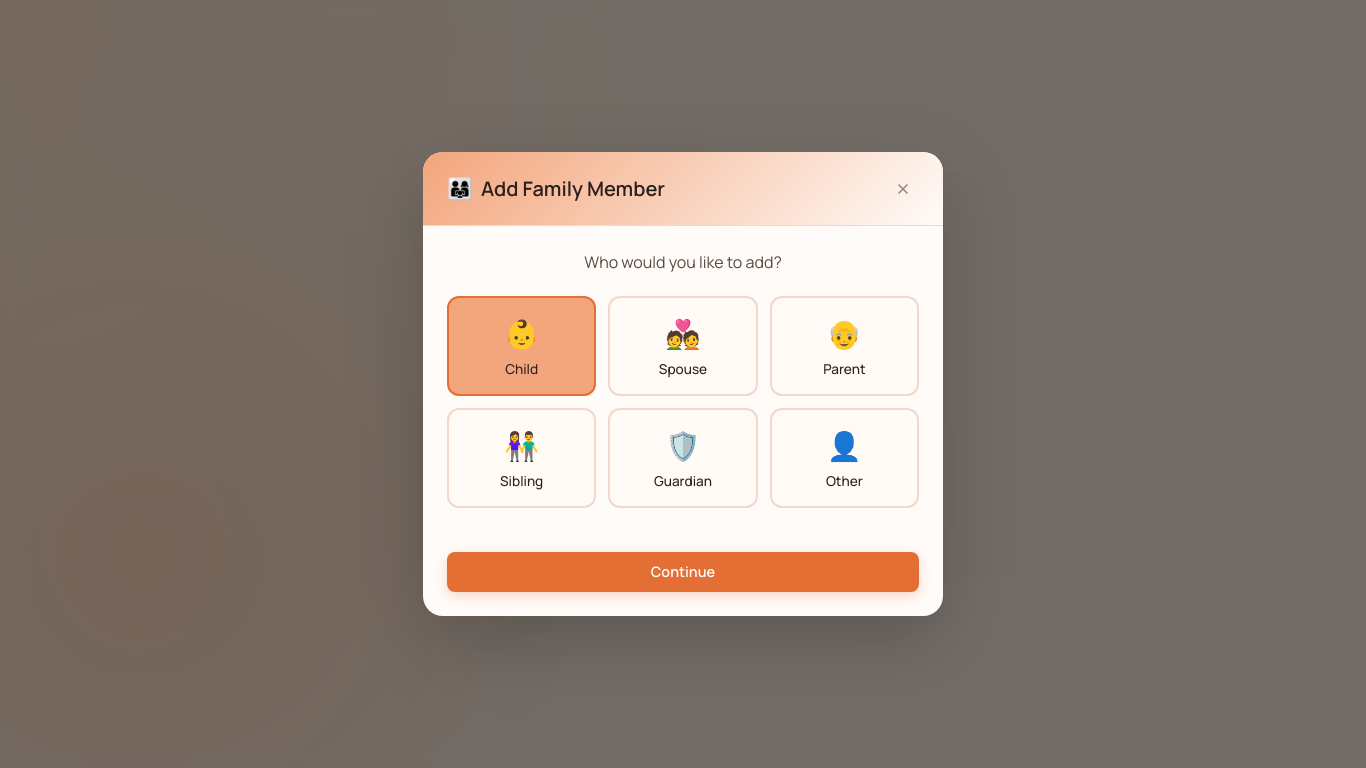
Test case: AddDependentModal › shows required-field and guardian confirmation validation
Step 1. Click the button "Continue" → {"x": 683, "y": 572}, box [447,552,919,592]
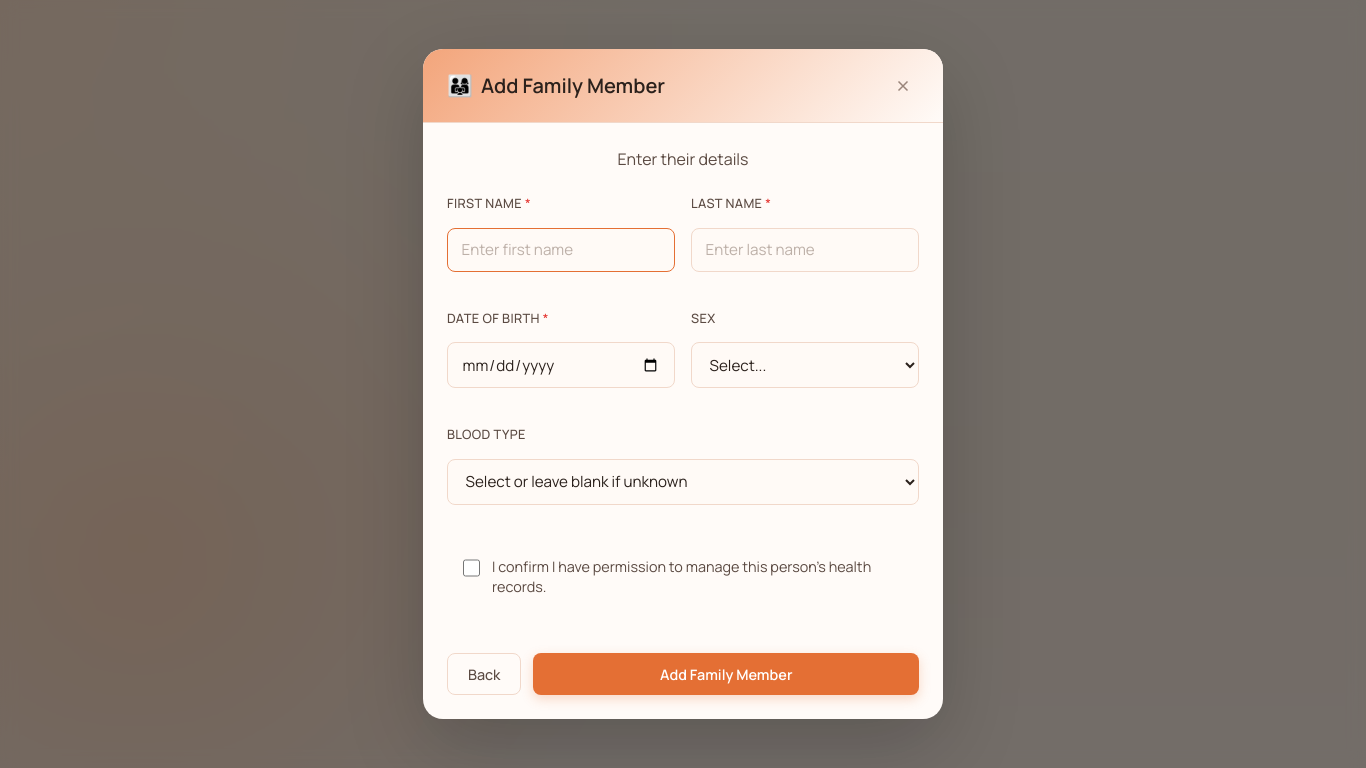
Step 2. Click the button "Add Family Member" → {"x": 726, "y": 674}, box [533,653,919,695]
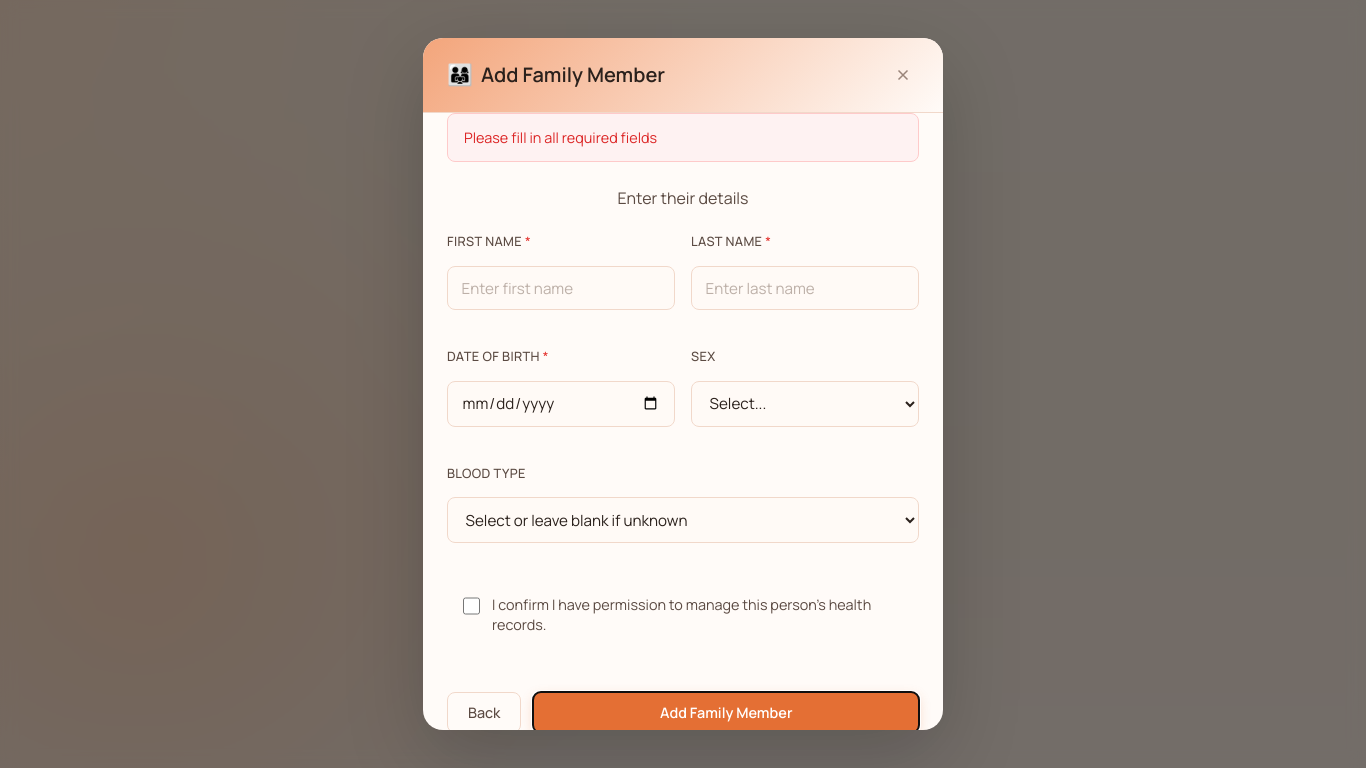
Check: the text "Please fill in all required fields" is shown, box [447,113,919,162]
Step 3. Type "Jamie" into the field with placeholder "Enter first name" → {"x": 561, "y": 288}, box [447,266,675,310]
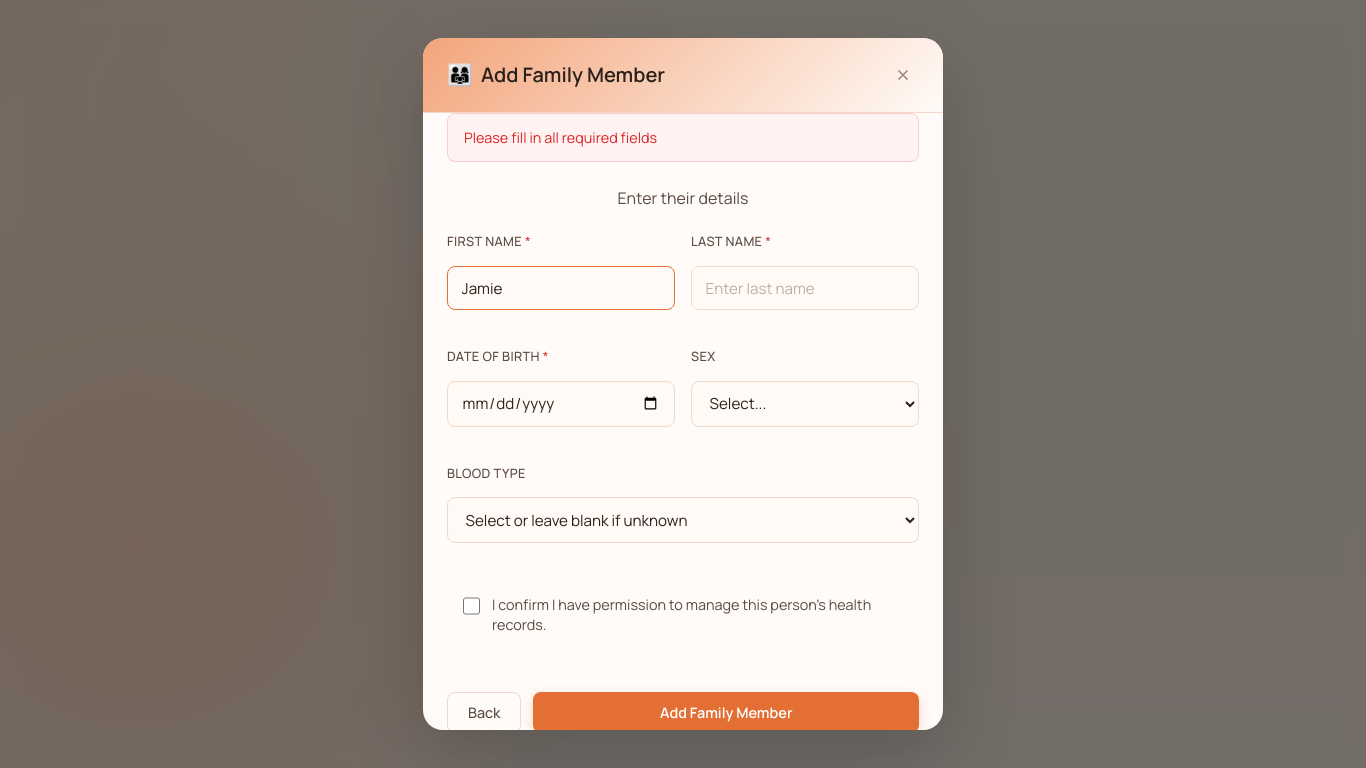
Step 4. Type "Doe" into the field with placeholder "Enter last name" → {"x": 805, "y": 288}, box [691,266,919,310]
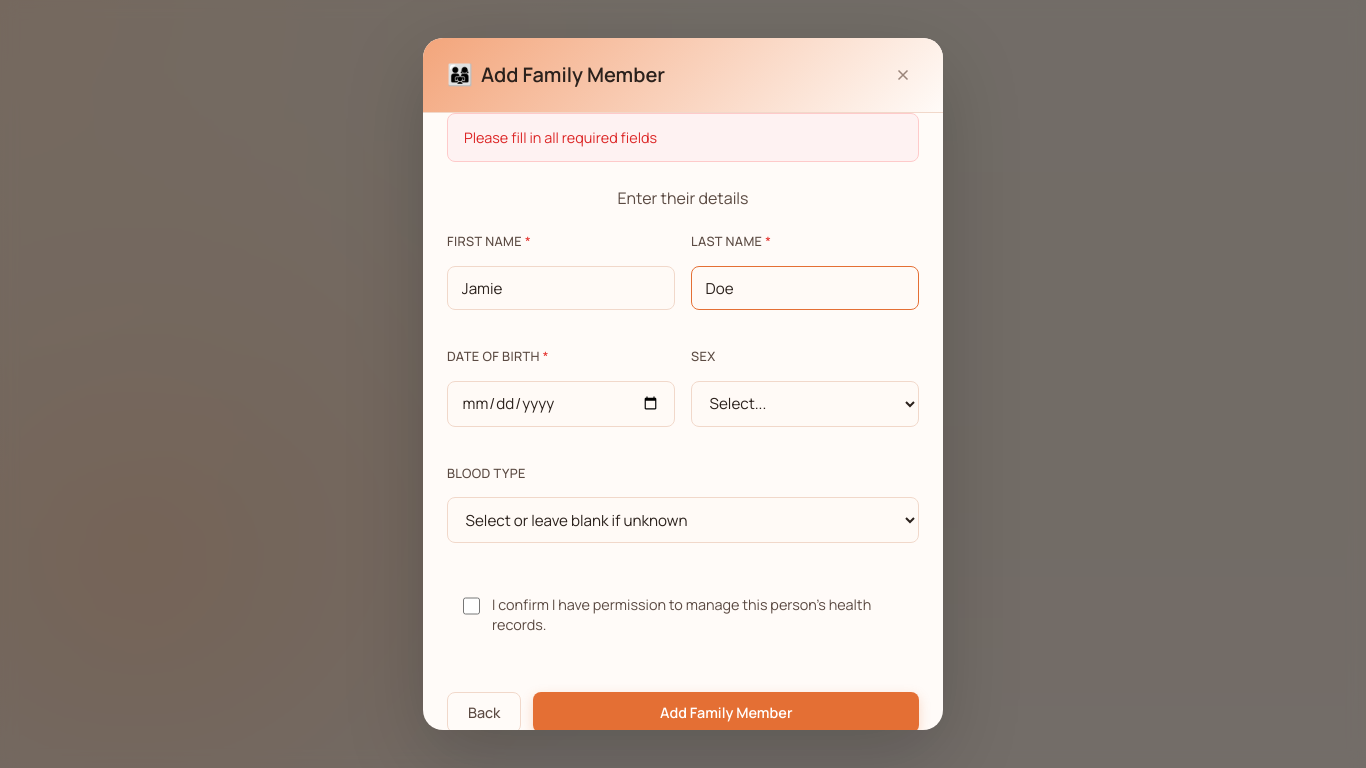
Step 5. Type "2020-05-10" into the date field → {"x": 561, "y": 404}, box [447,381,675,427]
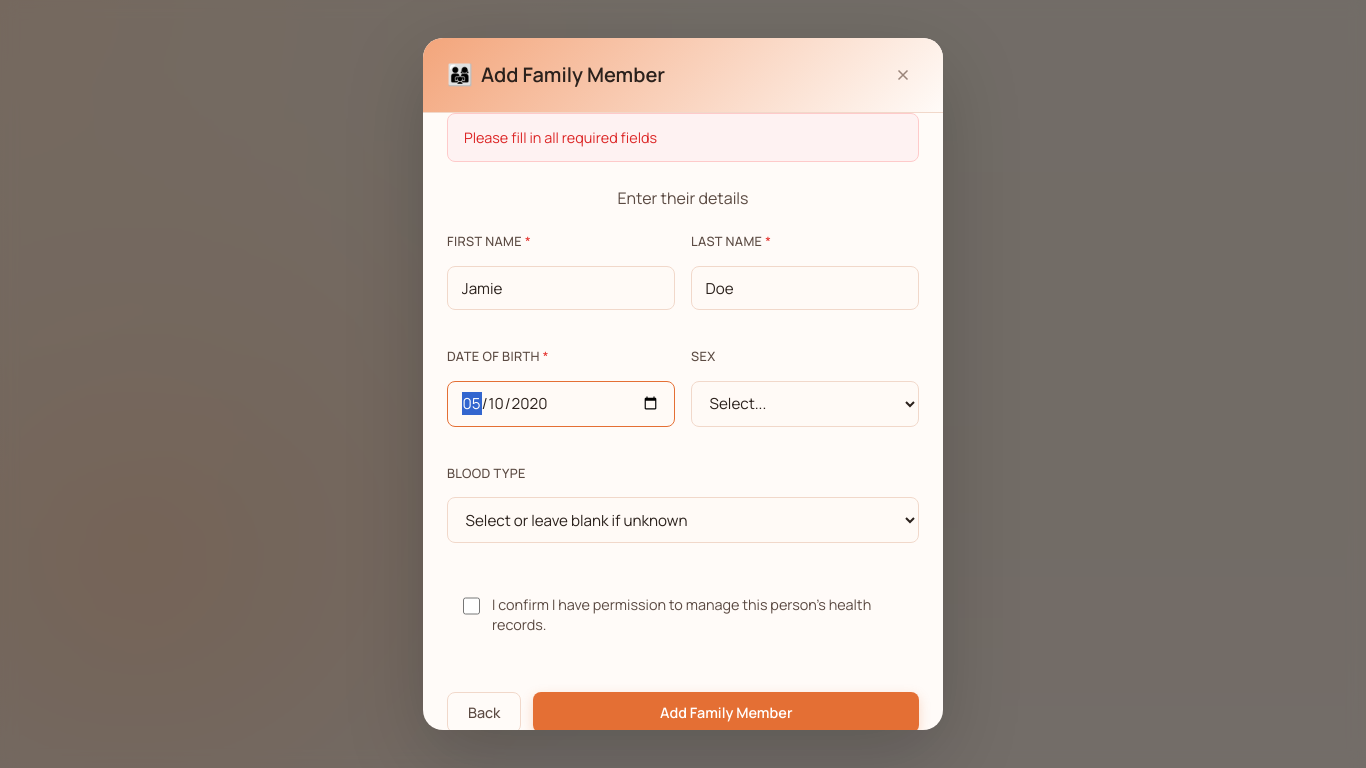
Step 6. Click the button "Add Family Member" → {"x": 726, "y": 712}, box [533,692,919,733]
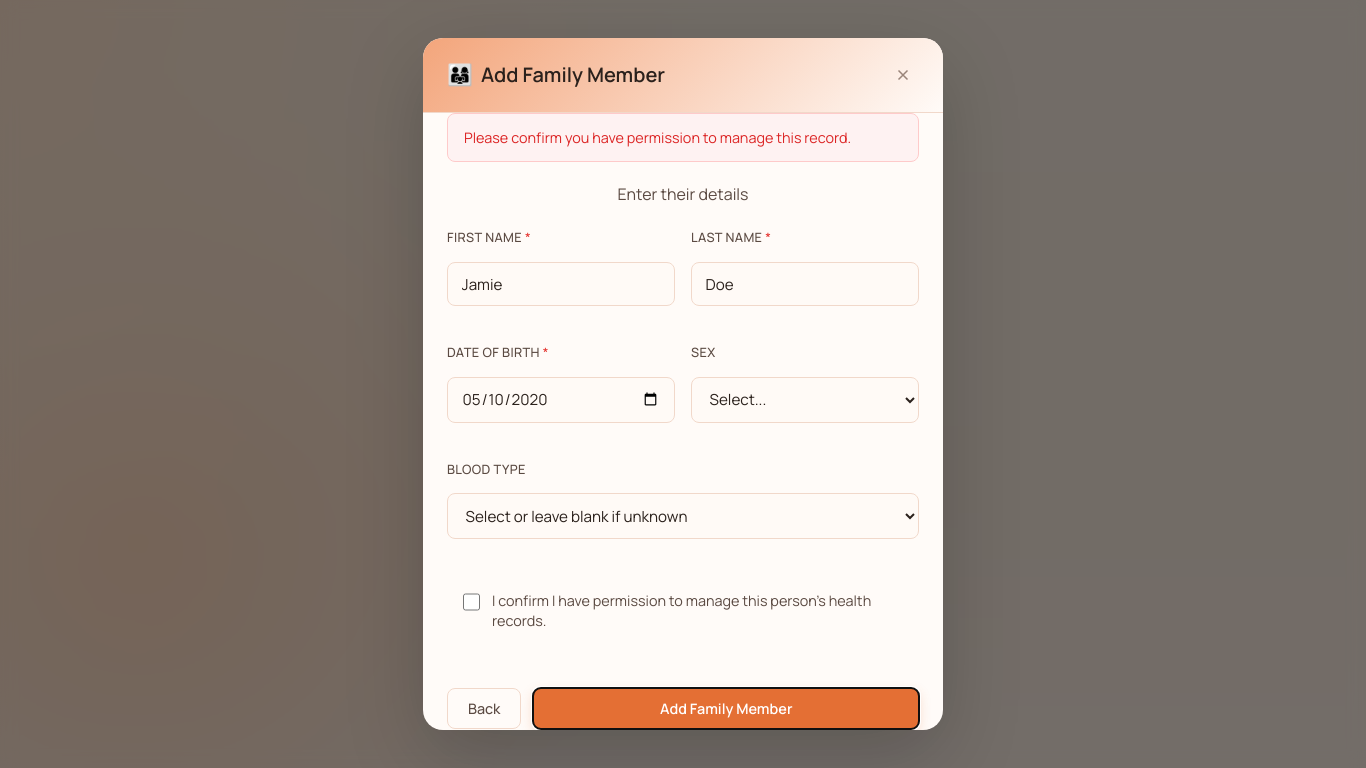
Check: the text "Please confirm you have permission to manage this record." is shown, box [447,113,919,162]
